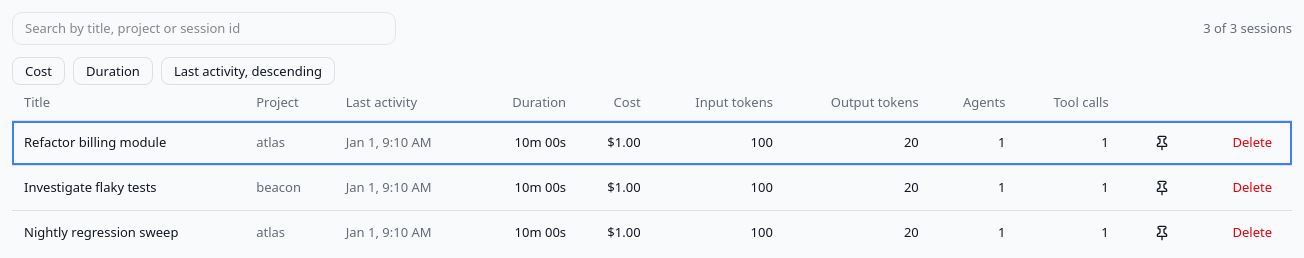
Test: SessionSearch › keeps the displayed result count in step with the filtered set (E3-S2-AC1)
Expected: the text "3 of 3 sessions" is shown, 1203,19 -> 1292,38
Type "atlas" into the search field.
click(204, 28); type("atlas")  # box 12,12 -> 396,45
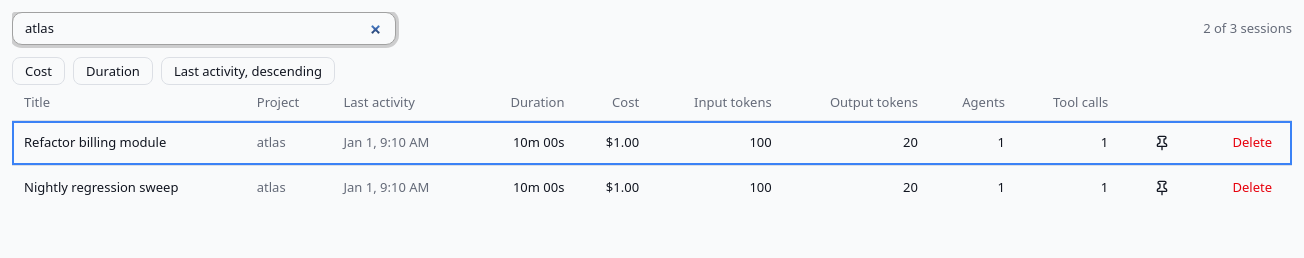
Expected: the text "2 of 3 sessions" is shown, 1203,19 -> 1292,38
Expected: the text "3 of 3 sessions" is gone
